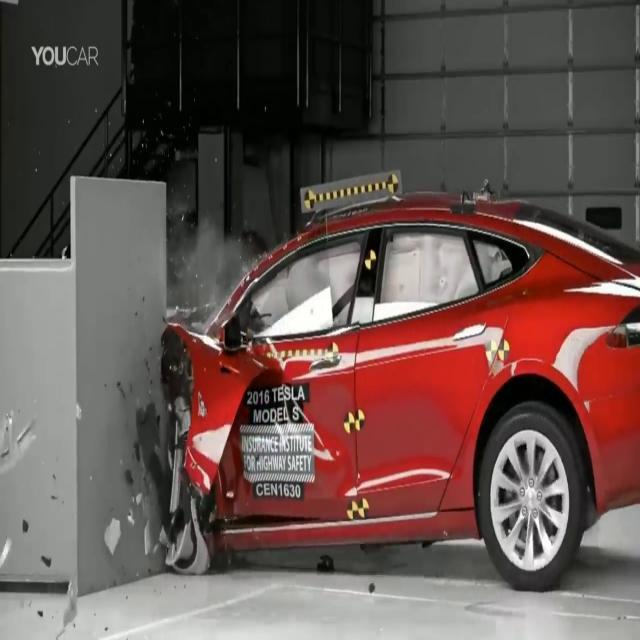accident: (62, 158, 640, 604)
